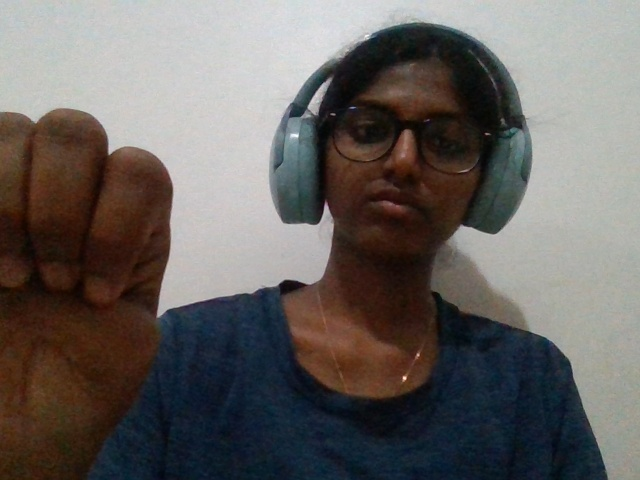E: (1, 70, 216, 480)
